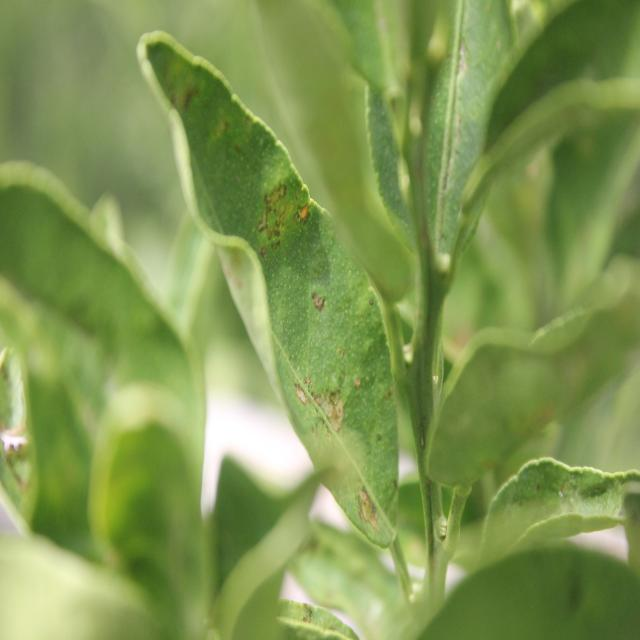canker: (186, 101, 404, 554)
